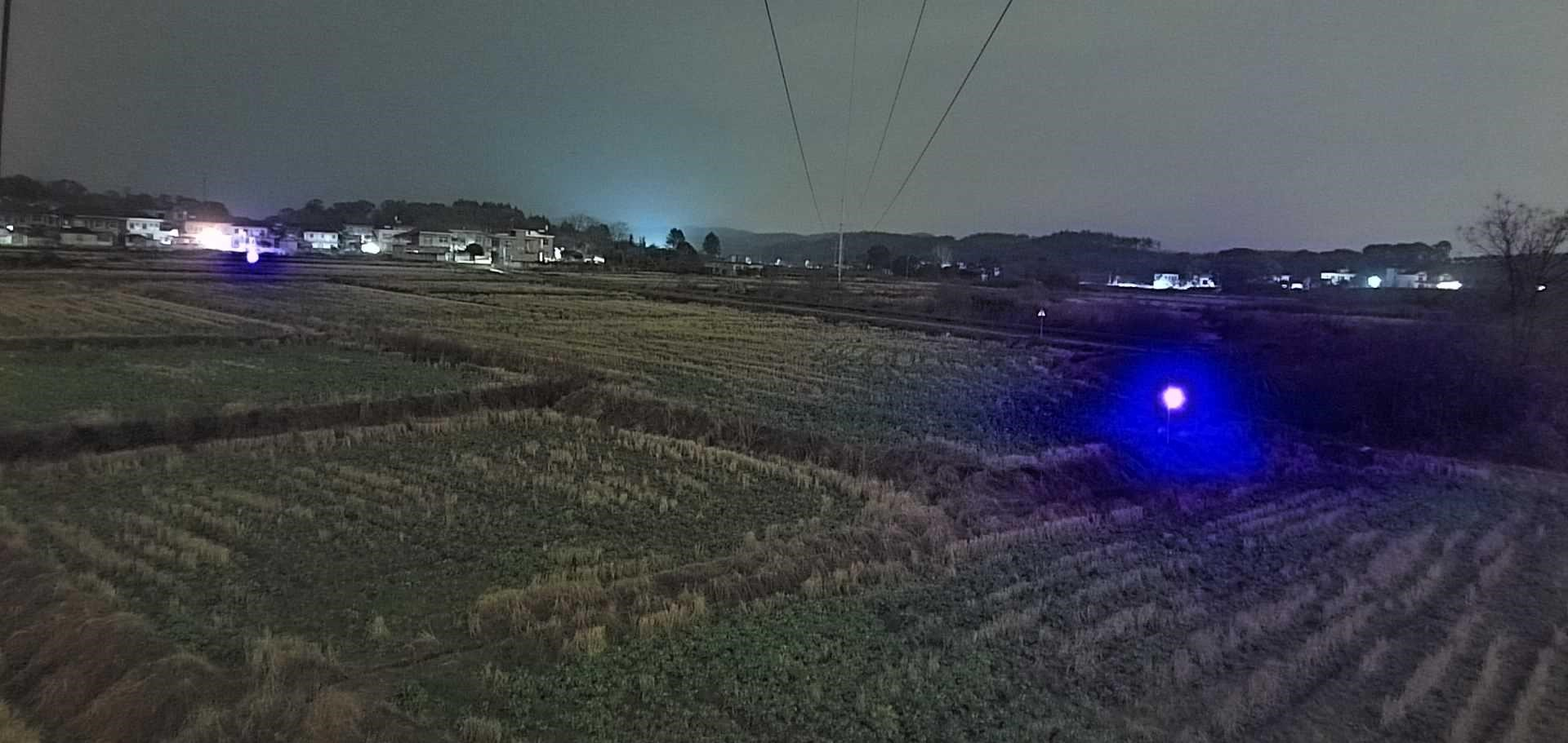过爆灯光: (194, 225, 247, 251), (1163, 386, 1184, 409), (246, 236, 258, 263), (1436, 281, 1463, 290), (361, 242, 379, 254), (1368, 275, 1381, 287)
